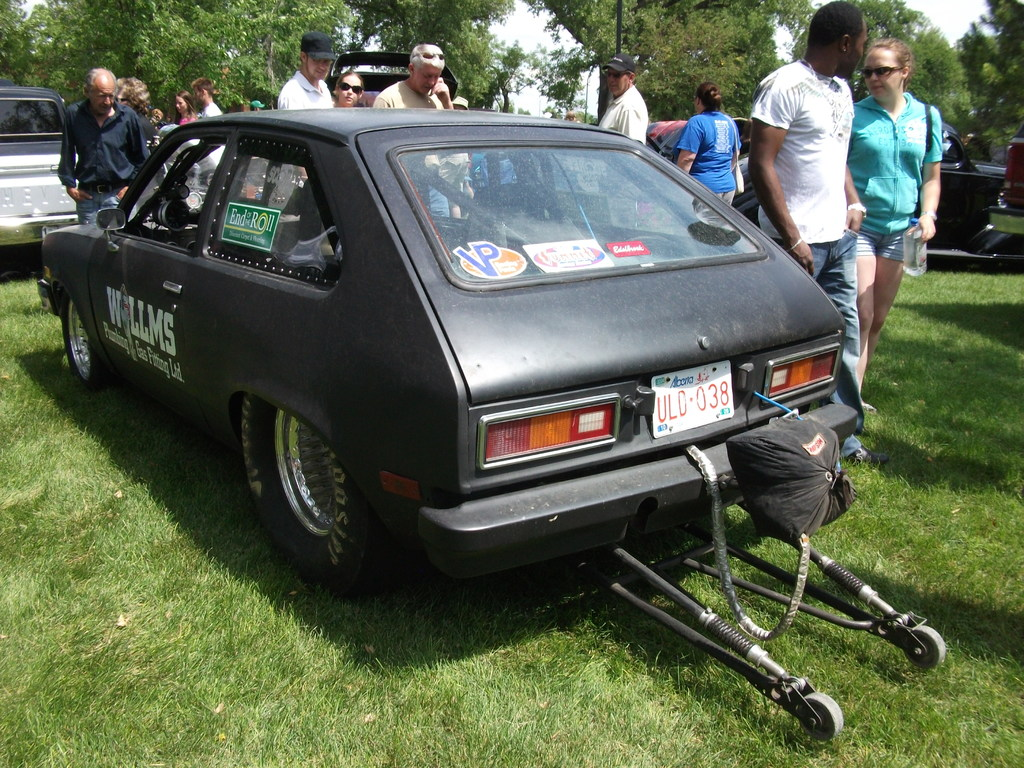Car: (49, 91, 856, 604)
